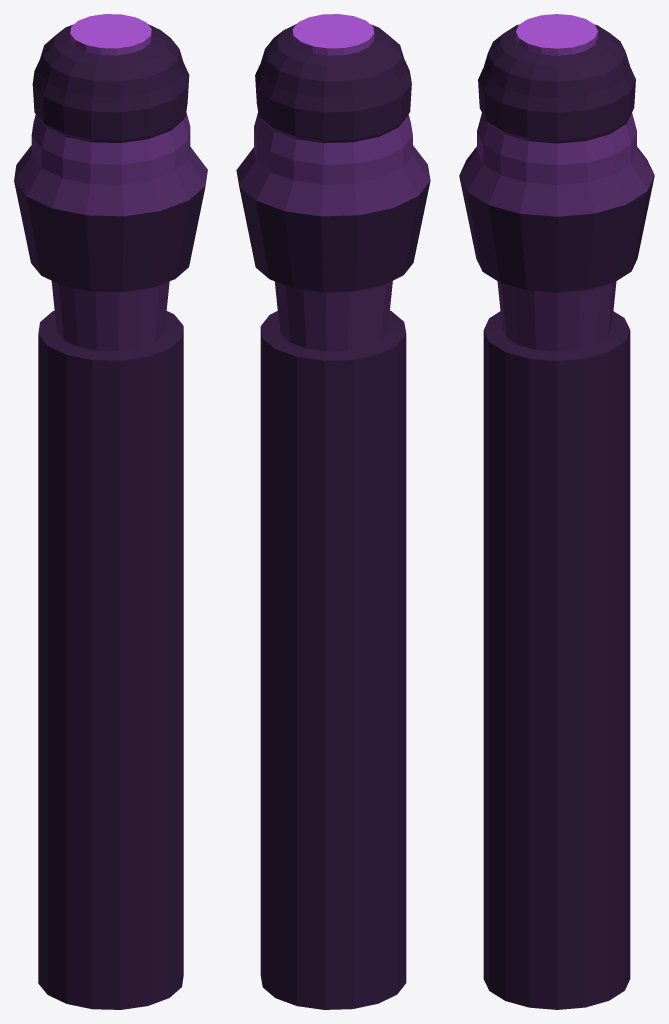
The model's file is centerObject.glb.
3 renders of one model, left to right at view 1: azimuth 30°, elevation 25°; view 2: azimuth 150°, elevation 25°; view 3: azimuth 270°, elevation 25°, orthographic.
Parts seen in each view (by area): view 1: centerHere; view 2: centerHere; view 3: centerHere.
Part boxes in pixels (left/top/right/bottom): centerHere: left=14, top=14, right=207, bottom=1009; centerHere: left=236, top=14, right=430, bottom=1009; centerHere: left=459, top=14, right=654, bottom=1009.
Size of the model in its own units: 0.3826 by 2.04 by 0.3826.
1 material, 1 textured.
